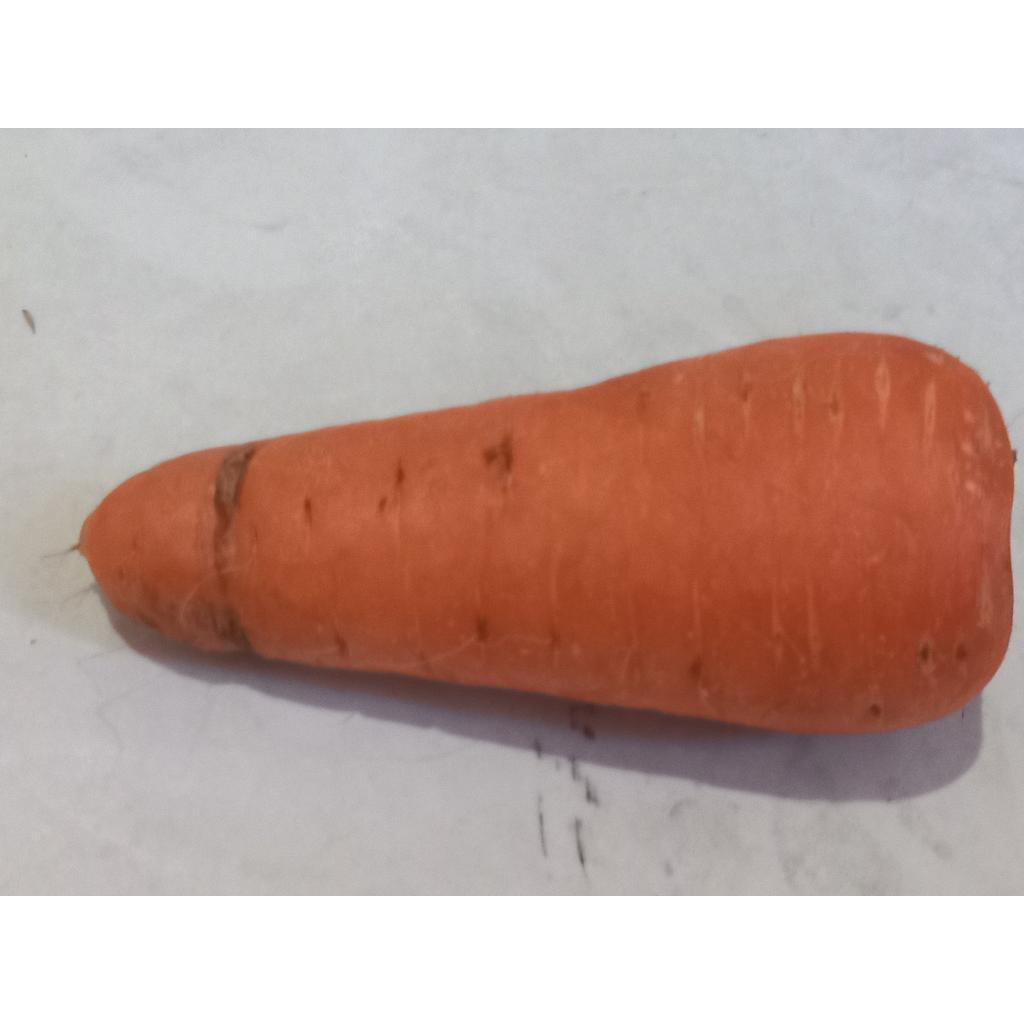carrot: (80, 334, 1014, 734)
